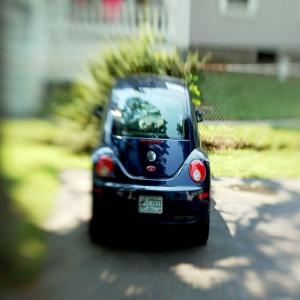Vehicle-registration-plate: (140, 197, 163, 215)
